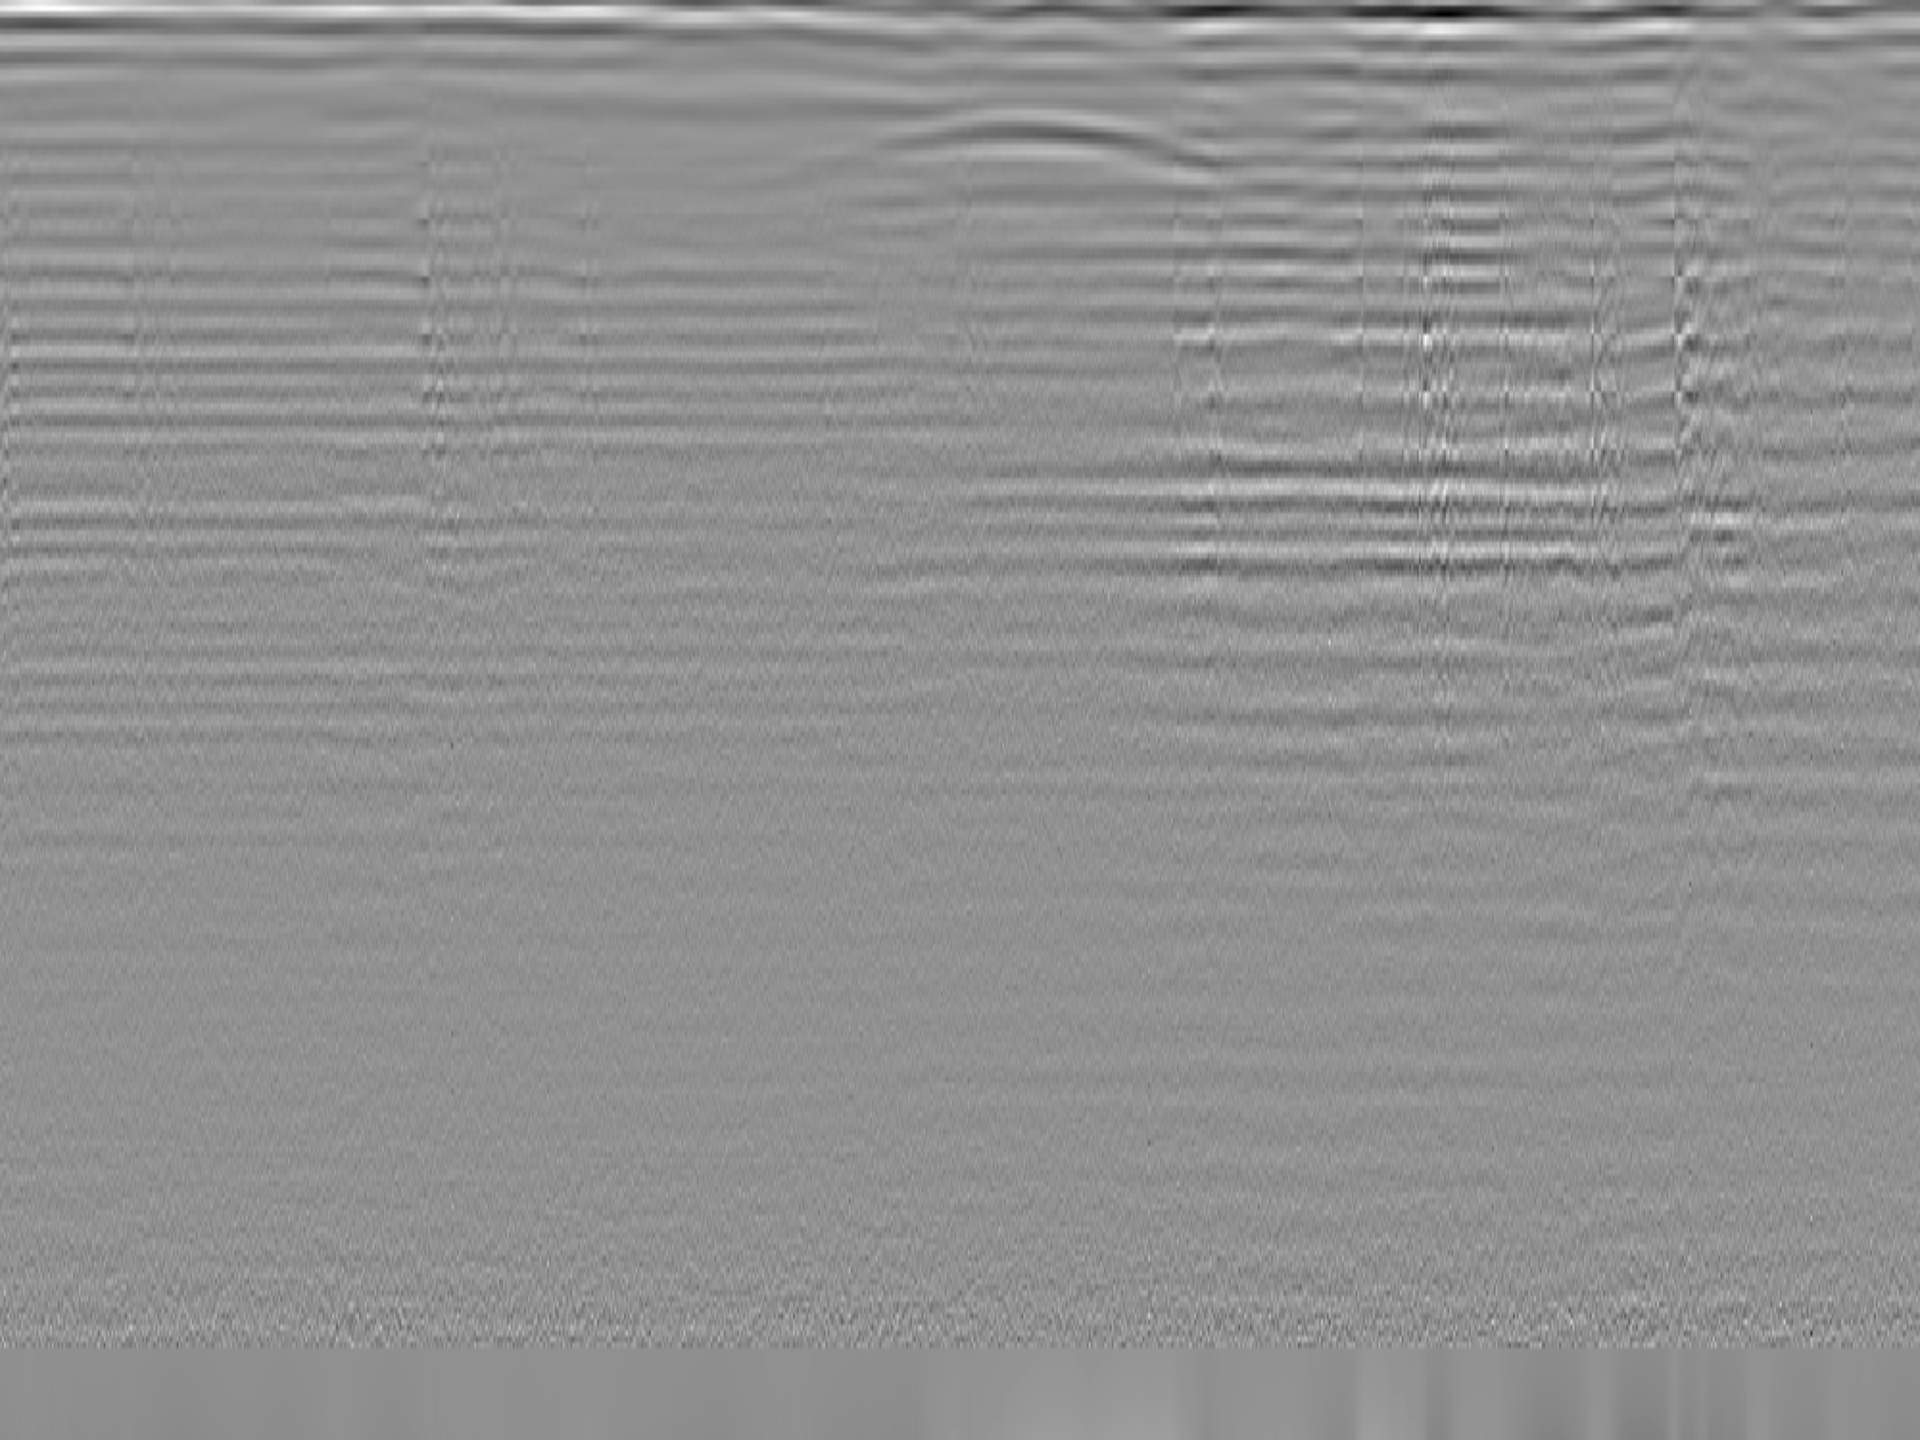Tunnel: (856, 109, 1214, 178)
